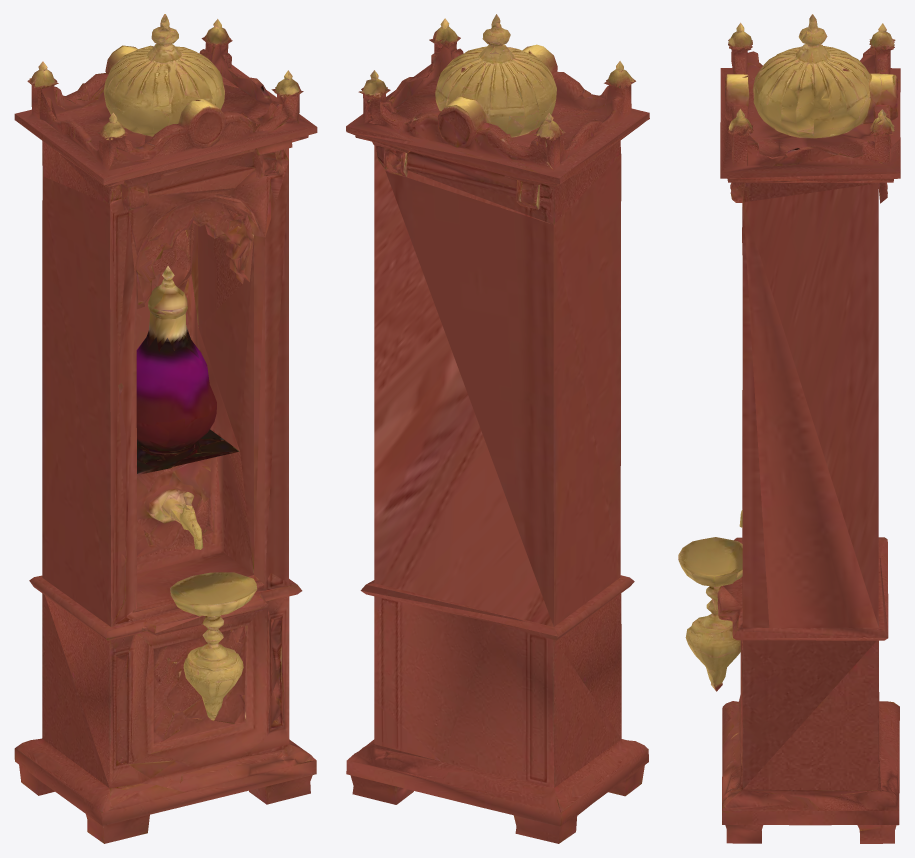
The model's file is la_perk_nova.glb.
The picture shows the model from 3 angles, left to right: view 1: azimuth 30°, elevation 25°; view 2: azimuth 150°, elevation 25°; view 3: azimuth 270°, elevation 25°; orthographic projection.
Visible parts, largest first — view 1: la_perk_nova; view 2: la_perk_nova; view 3: la_perk_nova.
Part boxes in pixels (x1,y1,x2,y2): la_perk_nova: [14, 14, 317, 843]; la_perk_nova: [346, 14, 649, 843]; la_perk_nova: [678, 14, 900, 843].
Bounding box in the file's own units: 0.6082 × 2.1 × 0.5431.
Materials: 1 (1 with a texture image).
